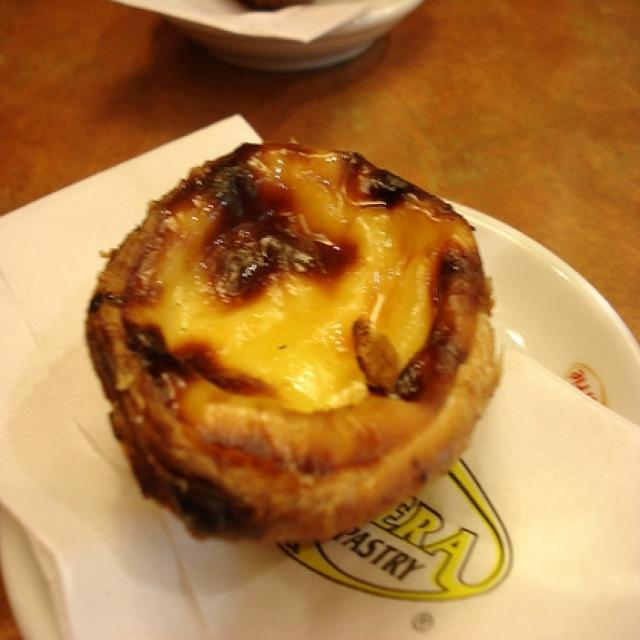炸货点心: (126, 124, 502, 548)
蛋糕甜品: (126, 124, 502, 548)
